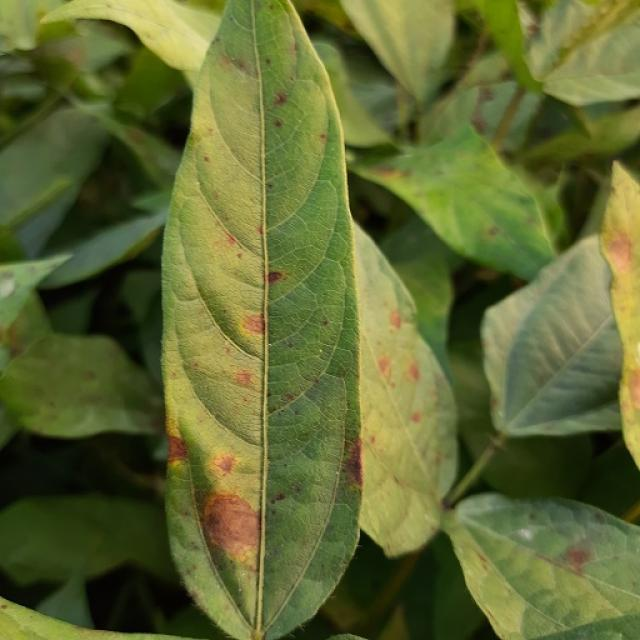Anthracnose: (202, 492, 260, 560), (164, 425, 196, 471), (560, 542, 595, 573), (606, 233, 634, 269), (342, 439, 363, 484), (219, 51, 250, 76), (242, 313, 264, 334), (214, 454, 236, 475), (235, 370, 254, 387), (632, 369, 640, 405), (378, 356, 390, 376), (389, 310, 402, 328), (266, 271, 284, 284), (408, 363, 419, 381), (274, 92, 288, 106), (225, 231, 238, 246), (411, 411, 421, 423)
Blackgram: (162, 0, 362, 639)
